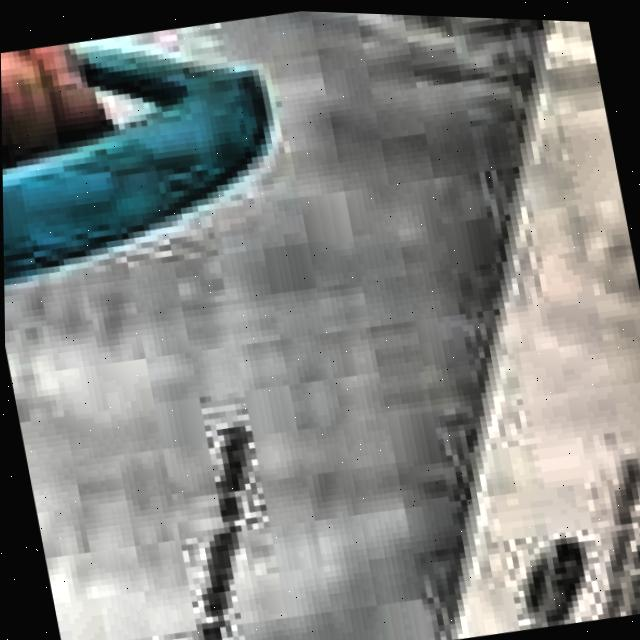paper: (1, 8, 640, 640)
